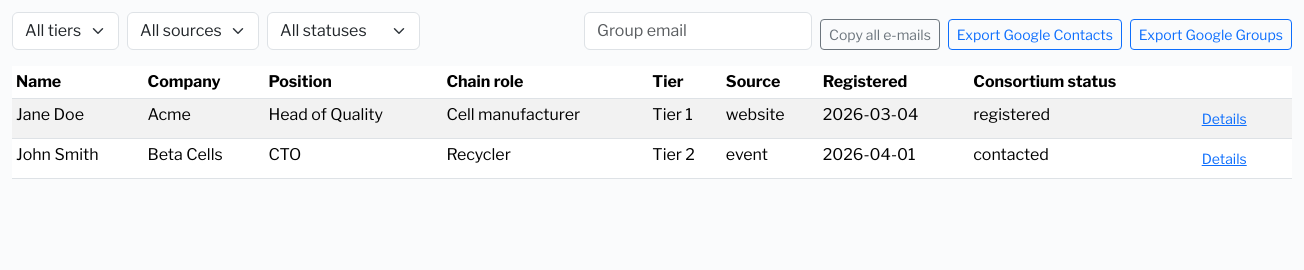
Test case: ConsortiumRegistrations › copies every loaded e-mail address to the clipboard
The width and height of the screenshot is (1304, 270).
Step 1. Click the button "Copy all e-mails" → click(880, 34), box [820, 19, 940, 50]
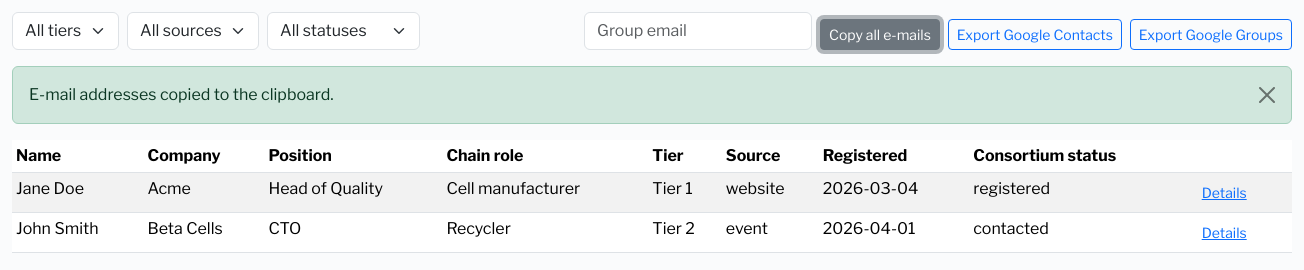
Check: the text "E-mail addresses copied to the clipboard." is shown, box [12, 66, 1292, 124]
